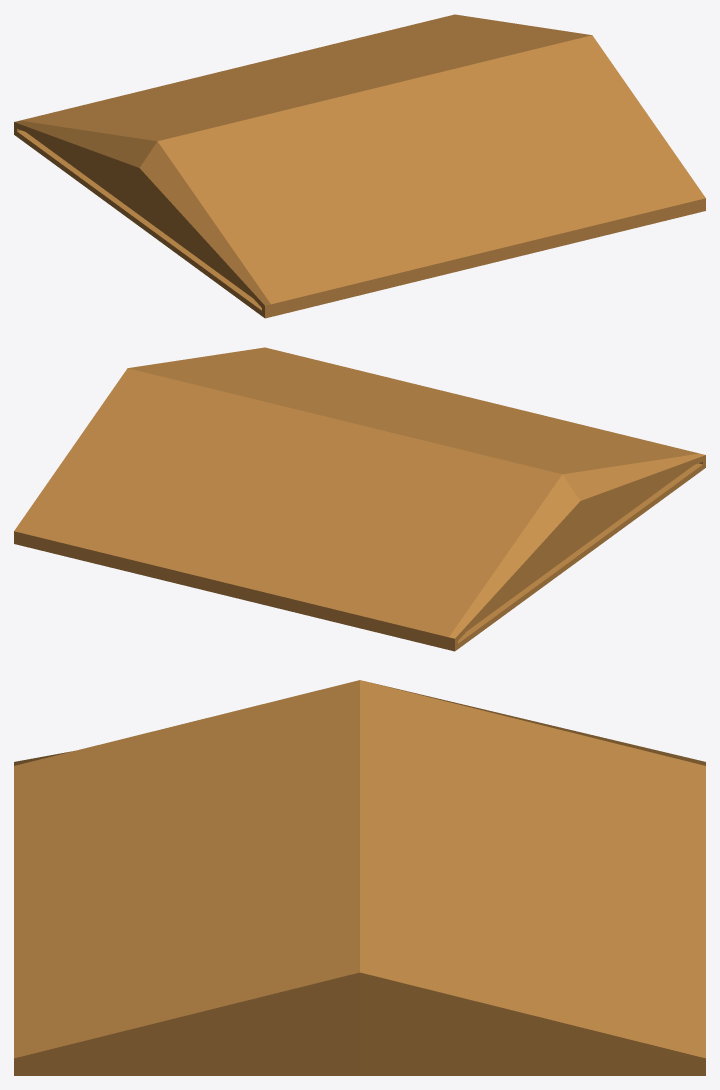
Rendered from roof-top.gltf.
3 views of the same model, one above another, from view 1: azimuth 30°, elevation 25°; view 2: azimuth 150°, elevation 25°; view 3: azimuth 270°, elevation 25° (orthographic). The views are drawn at different scales.
Visible parts, largest first — view 1: Plane.002; view 2: Plane.002; view 3: Plane.002.
Boxes of the visible parts, bbox=[...] form: Plane.002: bbox=[14, 14, 705, 318]; Plane.002: bbox=[14, 347, 705, 651]; Plane.002: bbox=[14, 680, 705, 1075].
Size of the model in its own units: 2.06 by 0.3526 by 1.98.
Materials: 1 (1 with a texture image).
